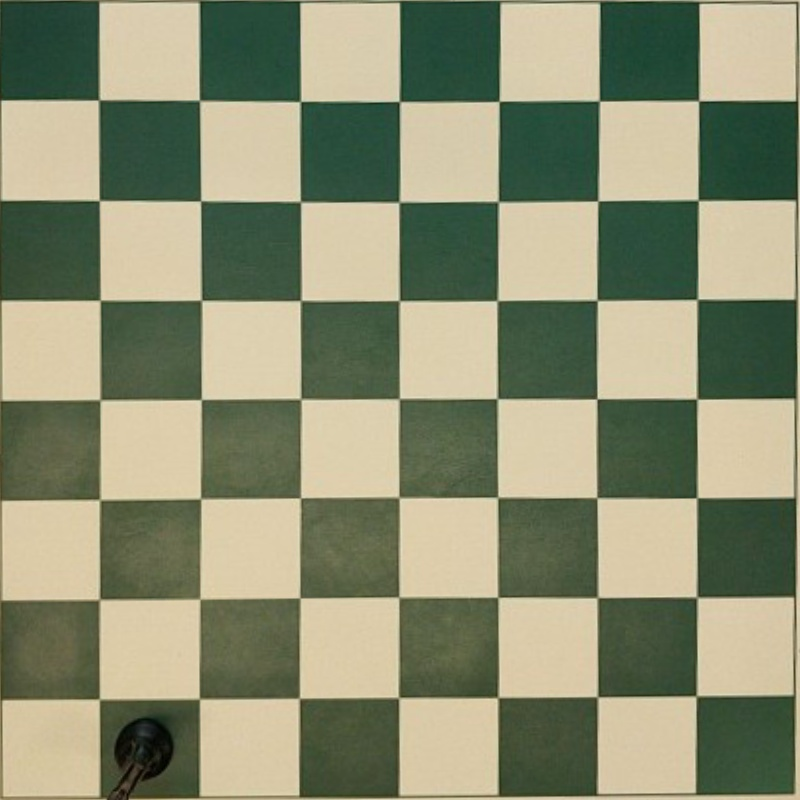black-knight: (110, 716, 173, 795)
